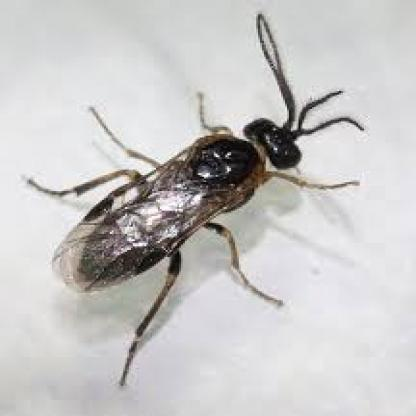sawfly: (26, 14, 369, 386)
